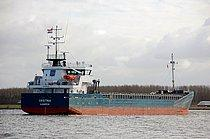Ship: (13, 45, 198, 119)
